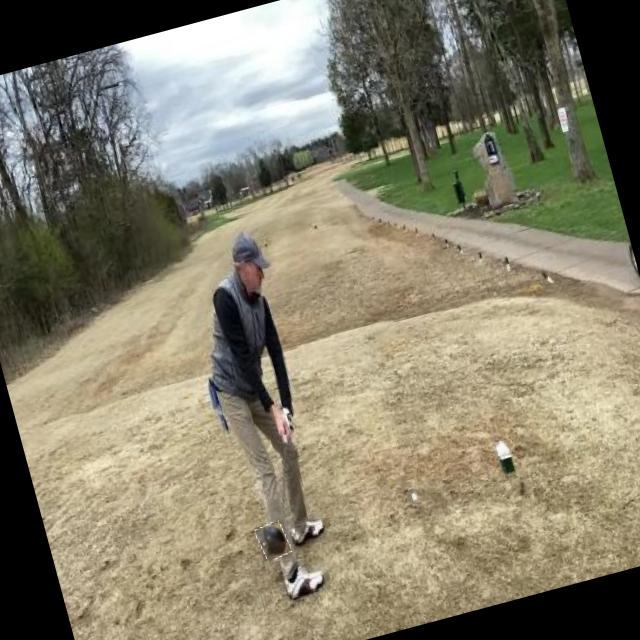club head: (254, 520, 292, 562)
